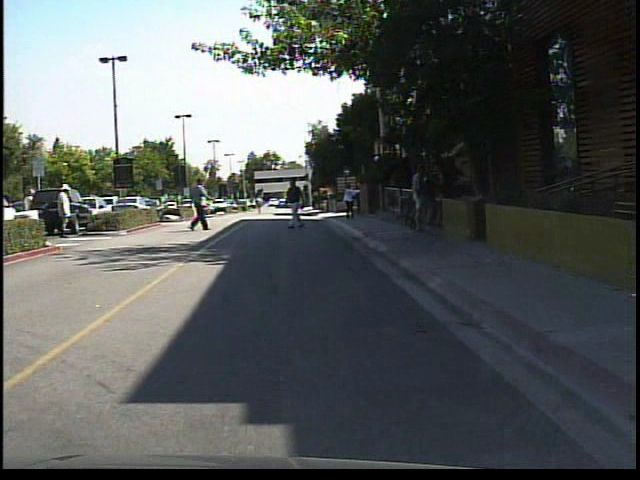person: (405, 153, 437, 239), (186, 172, 213, 234), (427, 164, 450, 235), (283, 174, 311, 232), (55, 180, 80, 241), (21, 183, 42, 240), (338, 179, 358, 226), (193, 190, 208, 220), (253, 192, 269, 215)
